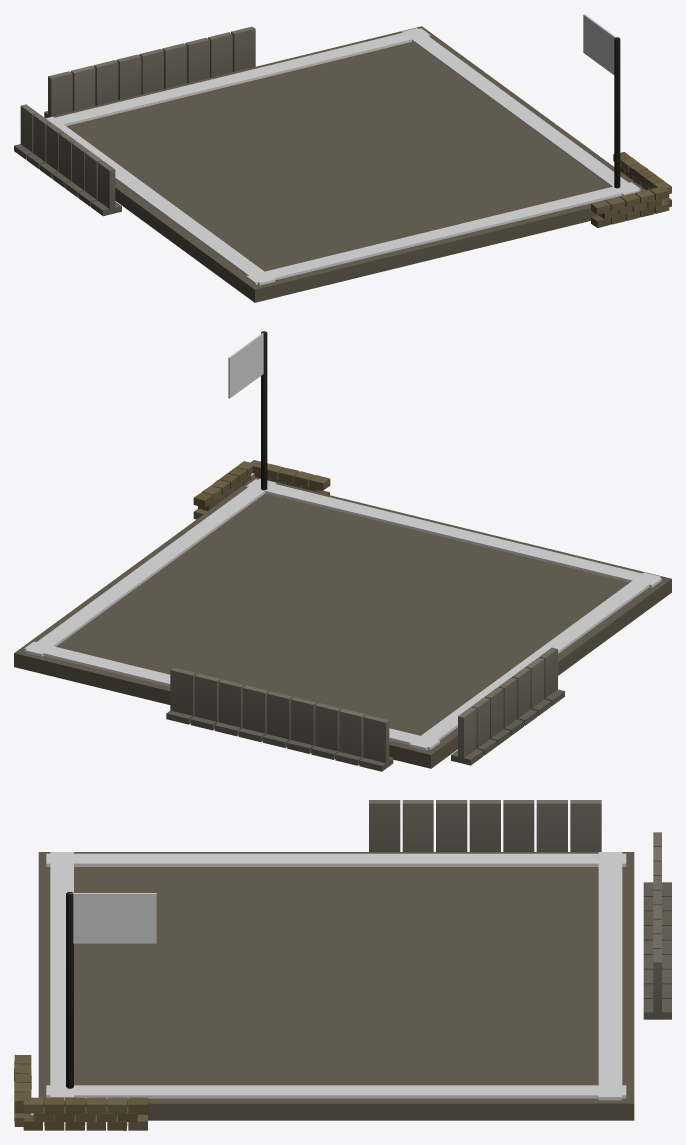
Rendered from m_factory_6bc1df25.glb.
3 renders of one model, top to bottom at view 1: azimuth 30°, elevation 25°; view 2: azimuth 150°, elevation 25°; view 3: azimuth 270°, elevation 25°, orthographic. The views are drawn at different scales.
Visible parts, largest first — view 1: mesh; view 2: mesh; view 3: mesh.
Part boxes in pixels (box(x1,y1,x2,y2)): mesh: box(14, 14, 671, 302); mesh: box(14, 331, 671, 771); mesh: box(14, 800, 671, 1130).
Bounding box in the file's own units: 83.57 × 30 × 83.57.
